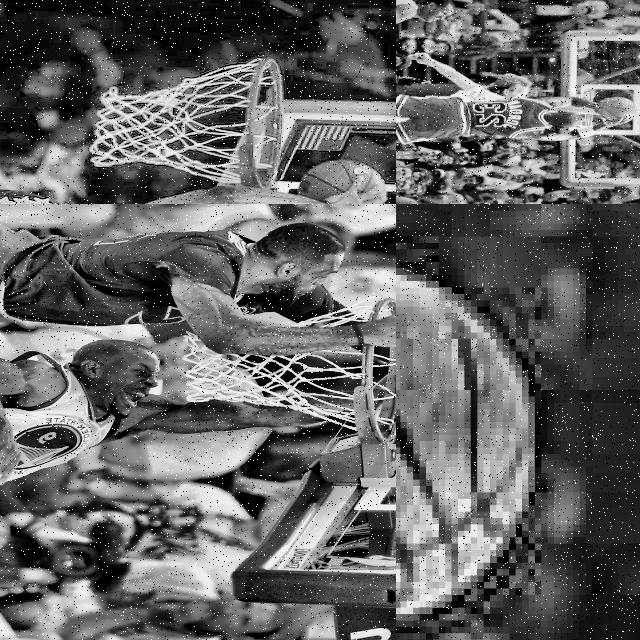Basketball: (396, 268, 534, 618), (596, 97, 638, 122)
